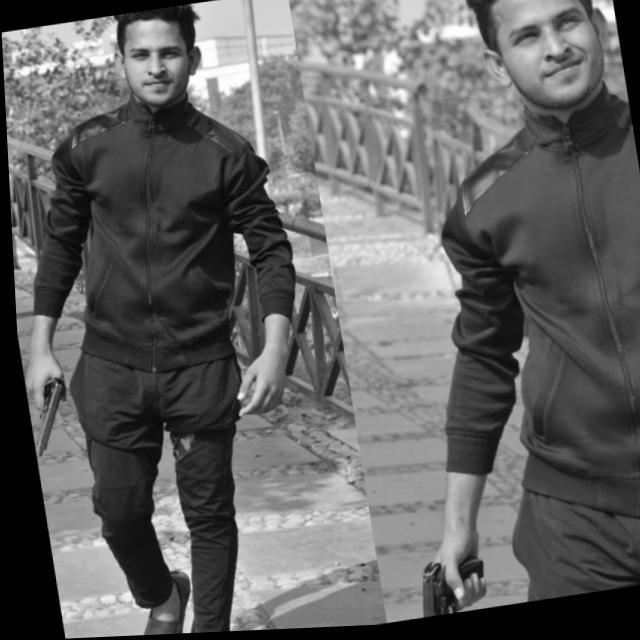weapon: (394, 552, 494, 622), (18, 364, 76, 462)
